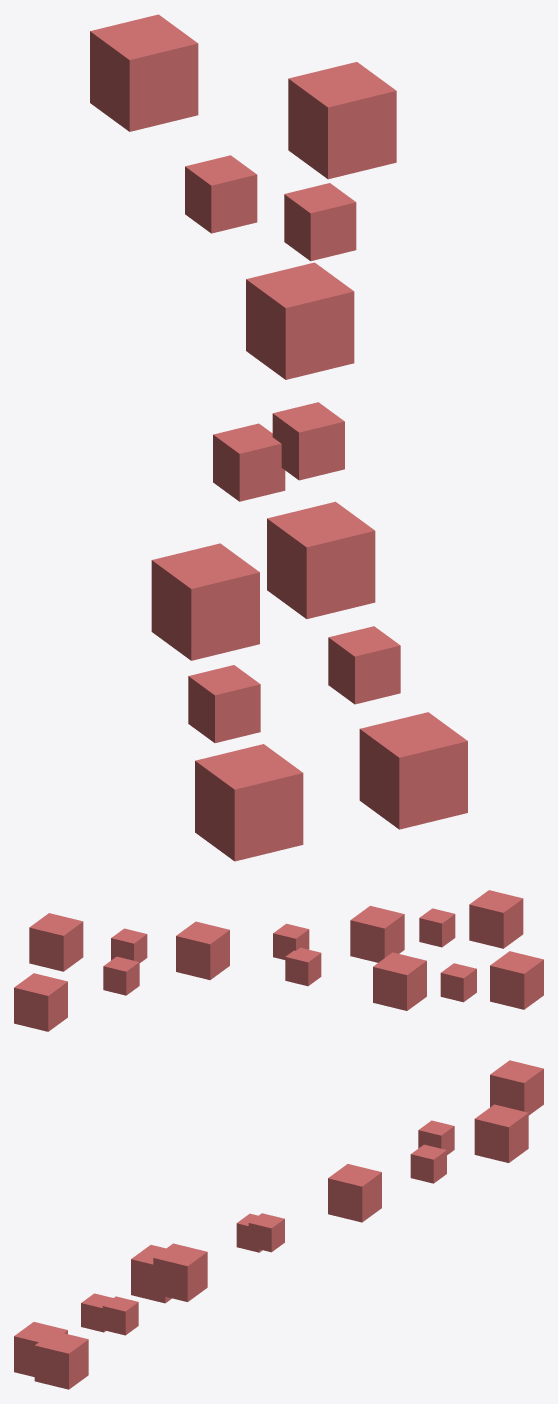
File: vessel_tree.glb
3 renders of one model, top to bottom at view 1: azimuth 30°, elevation 25°; view 2: azimuth 150°, elevation 25°; view 3: azimuth 330°, elevation 25°, orthographic. The views are drawn at different scales.
Bounding box in the file's own units: 15.1 × 8.2 × 28.6.
